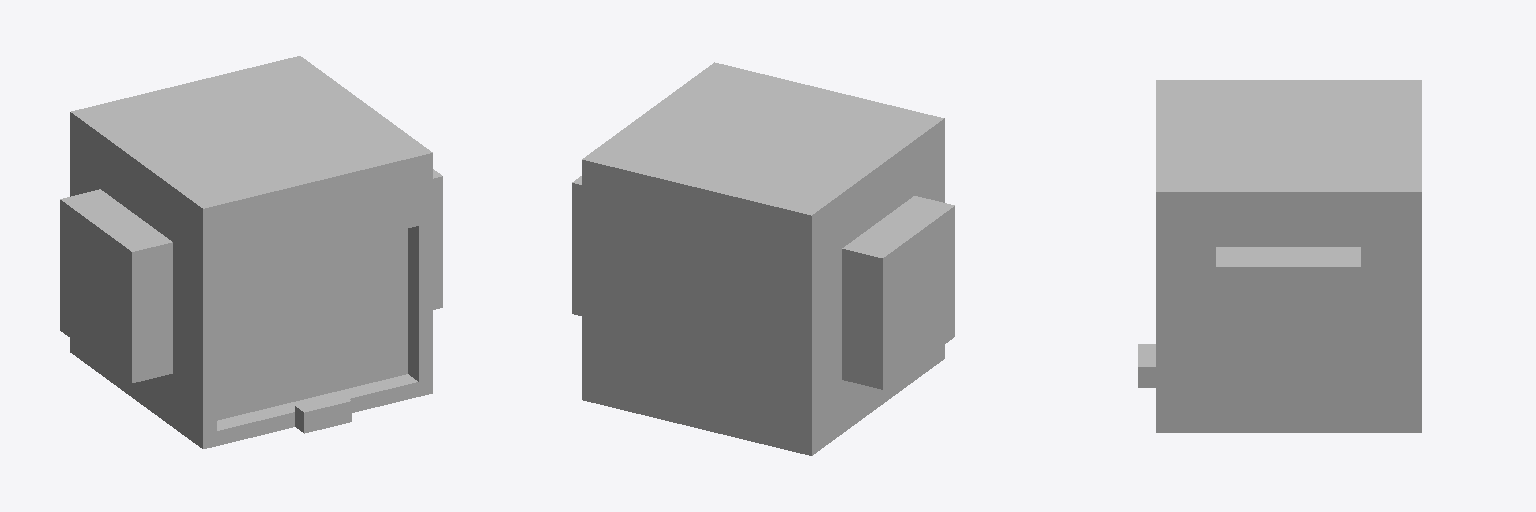
Rendered from builderBot.obj.
3 views of the same model, side by side, from view 1: azimuth 30°, elevation 25°; view 2: azimuth 150°, elevation 25°; view 3: azimuth 270°, elevation 25° (orthographic).
Size of the model in its own units: 2.69 by 1.99 by 2.13.